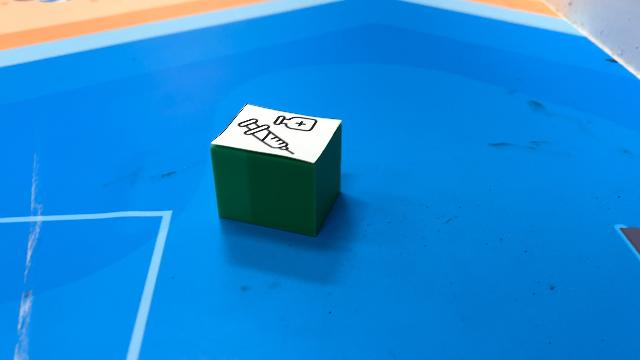syringe: (212, 104, 342, 236)
